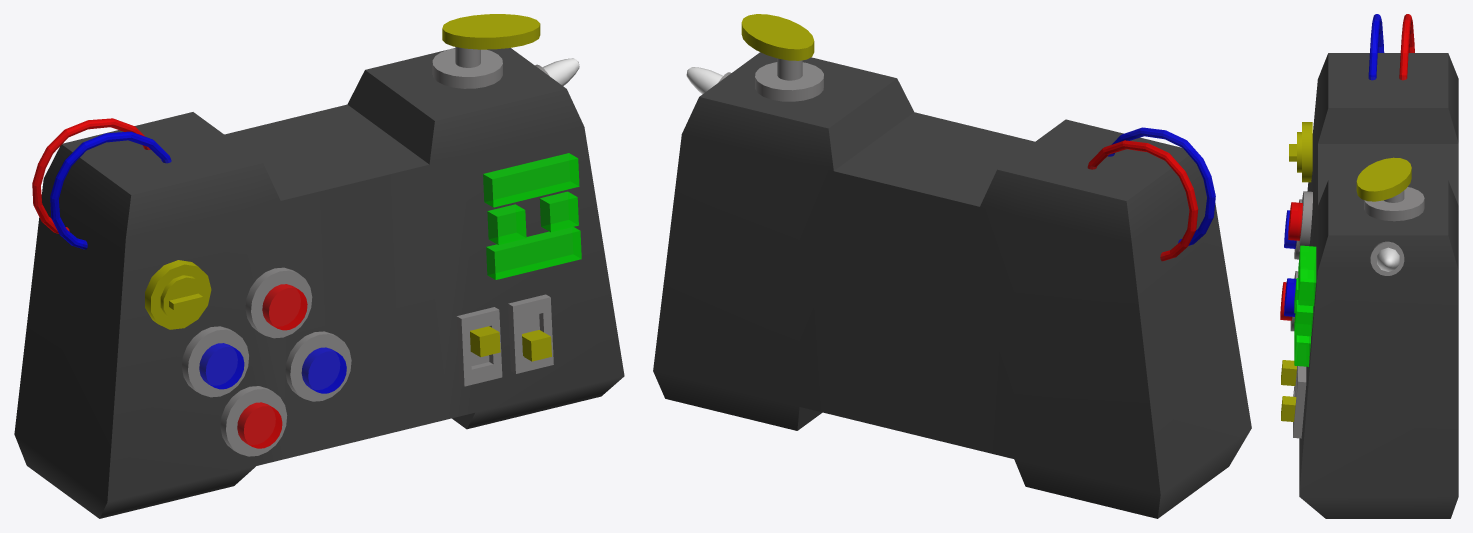
The model's file is bombmodel.fbx.
3 views of the same model, side by side, from view 1: azimuth 30°, elevation 25°; view 2: azimuth 150°, elevation 25°; view 3: azimuth 270°, elevation 25° (orthographic). The views are drawn at different scales.
Parts seen in each view (by area): view 1: Bomb, pCylinder1 (×5), pCylinder2 (×4), Dial, RectButtonLong, RectButtonLong1, pCylinder6, pCube10, pCube8, Wire1, Wire, SquareButton (+3 smaller); view 2: Bomb, pCylinder6, pCylinder1, Wire, Wire1; view 3: Bomb, pCylinder6, pCylinder1 (×2), pCylinder2 (×3), RectButtonLong, Dial, pCube10, Wire, Wire1, SquareButton1, pCylinder5, RectButtonLong1 (+3 smaller).
Part boxes in pixels (x1,y1,x2,y2): Bomb: (14,48,624,518); pCylinder1 (×5): (181,48,502,456); pCylinder2 (×4): (199,284,346,448); Dial: (145,260,211,329); RectButtonLong: (483,153,579,207); RectButtonLong1: (486,227,581,279); pCylinder6: (442,14,540,49); pCube10: (508,294,553,373); pCube8: (456,307,502,386); Wire1: (50,131,171,249); Wire: (32,118,150,233); SquareButton: (487,204,526,244); Bomb: (653,52,1251,518); pCylinder6: (741,14,814,60); pCylinder1: (755,62,823,101); Wire: (1087,140,1198,261); Wire1: (1108,127,1215,245); Bomb: (1299,53,1458,518); pCylinder6: (1356,157,1411,201); pCylinder1 (×2): (1298,187,1424,251); pCylinder2 (×3): (1284,202,1302,316); RectButtonLong: (1298,245,1316,306); Dial: (1289,122,1312,182); pCube10: (1293,366,1306,438); Wire: (1399,14,1414,80); Wire1: (1368,14,1384,80); SquareButton1: (1294,300,1313,336); pCylinder5: (1370,241,1404,275); RectButtonLong1: (1294,335,1310,366).
Size of the model in its own units: 17.38 by 11.35 by 5.88.
